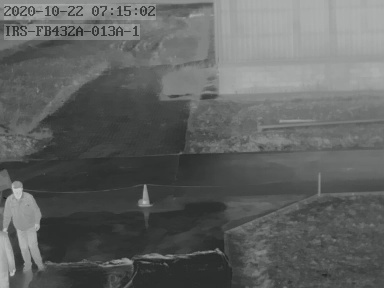person: (3, 181, 45, 272)
